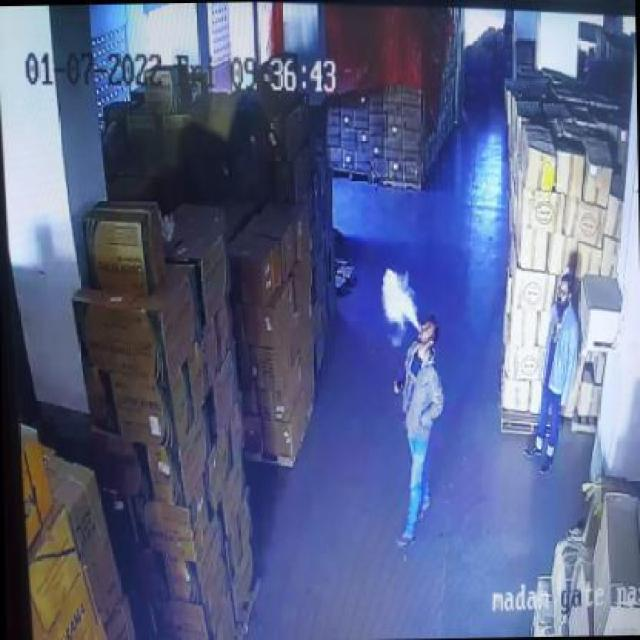fire: (374, 264, 420, 332)
